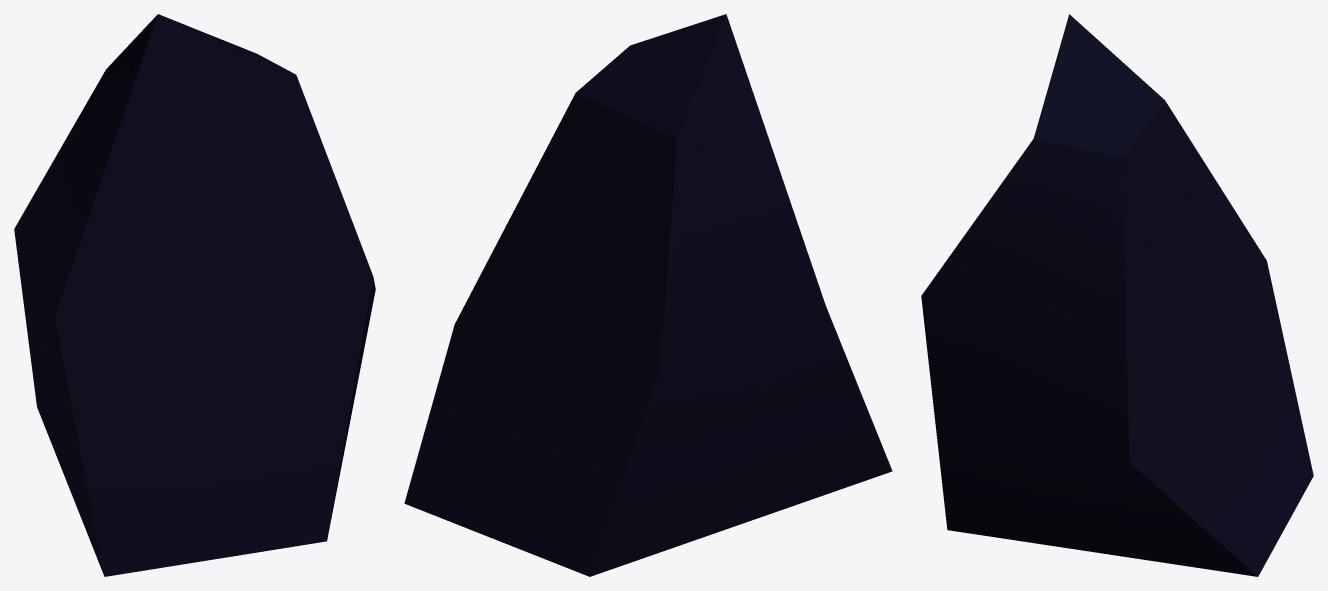
Rendered from C.pedra2.fbx.
The picture shows the model from 3 angles, left to right: view 1: azimuth 30°, elevation 25°; view 2: azimuth 150°, elevation 25°; view 3: azimuth 270°, elevation 25°; orthographic projection. The views are drawn at different scales.
Parts seen in each view (by area): view 1: pCube4; view 2: pCube4; view 3: pCube4.
Boxes of the visible parts, x1,y1,x2,y2 form: pCube4: (14,14,375,576); pCube4: (404,14,892,576); pCube4: (921,14,1313,576).
Size of the model in its own units: 1.82 by 2.41 by 1.83.
